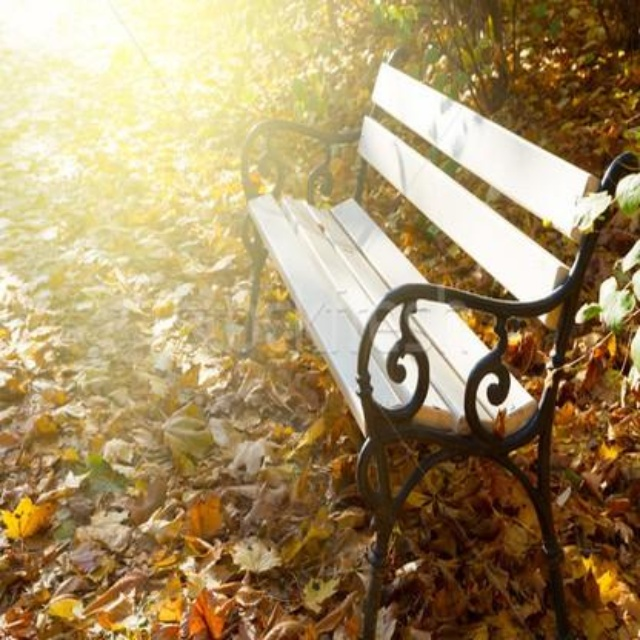obstacle: (222, 45, 615, 629)
